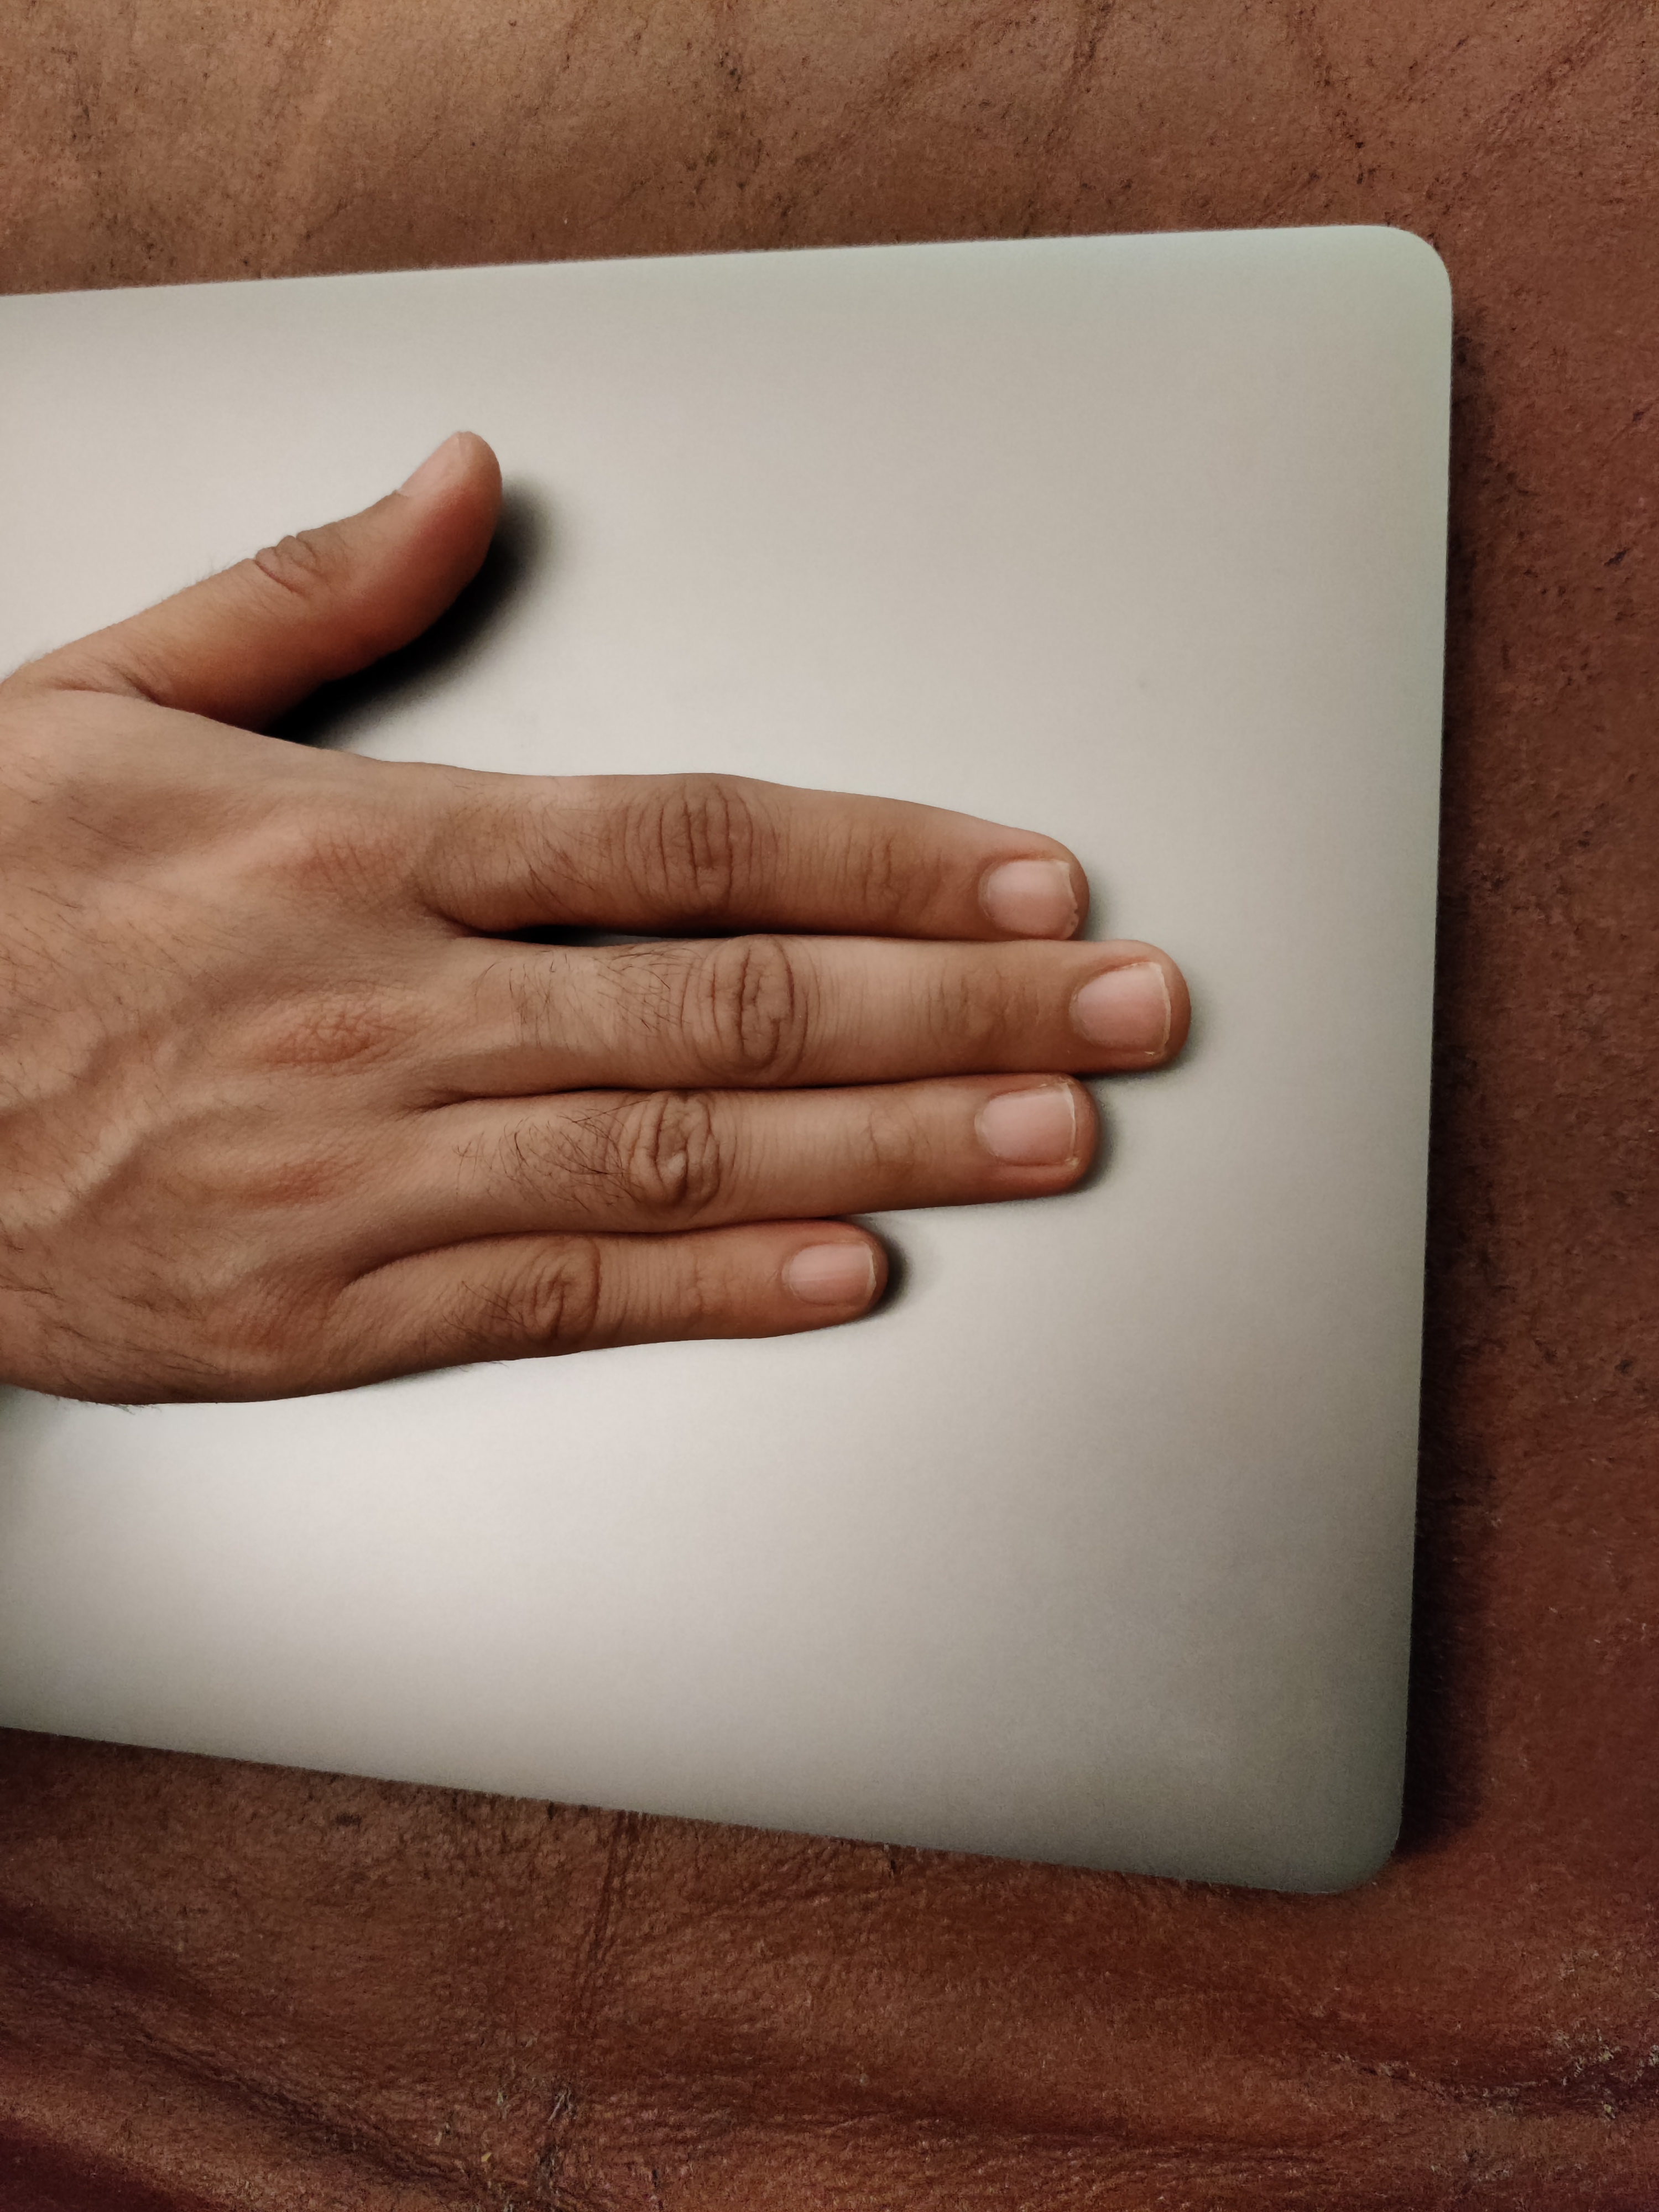left: (9, 219, 1478, 1611)
